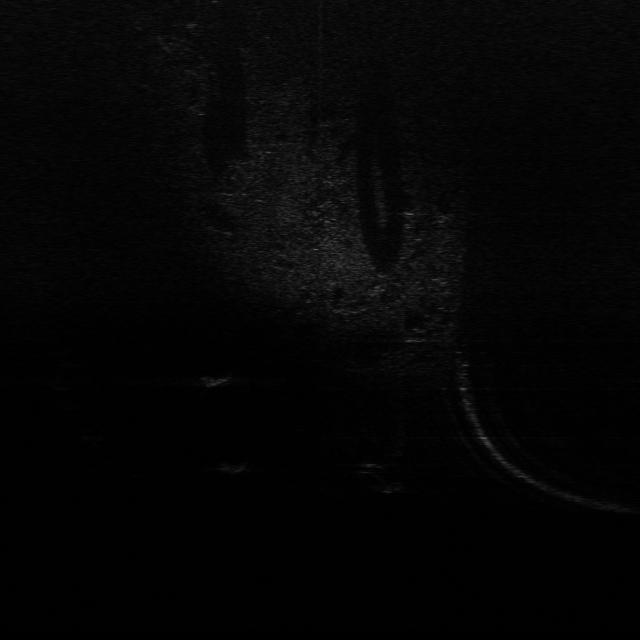cube: (216, 458, 252, 475)
square cage: (197, 372, 233, 389)
tyre: (351, 460, 403, 496)
